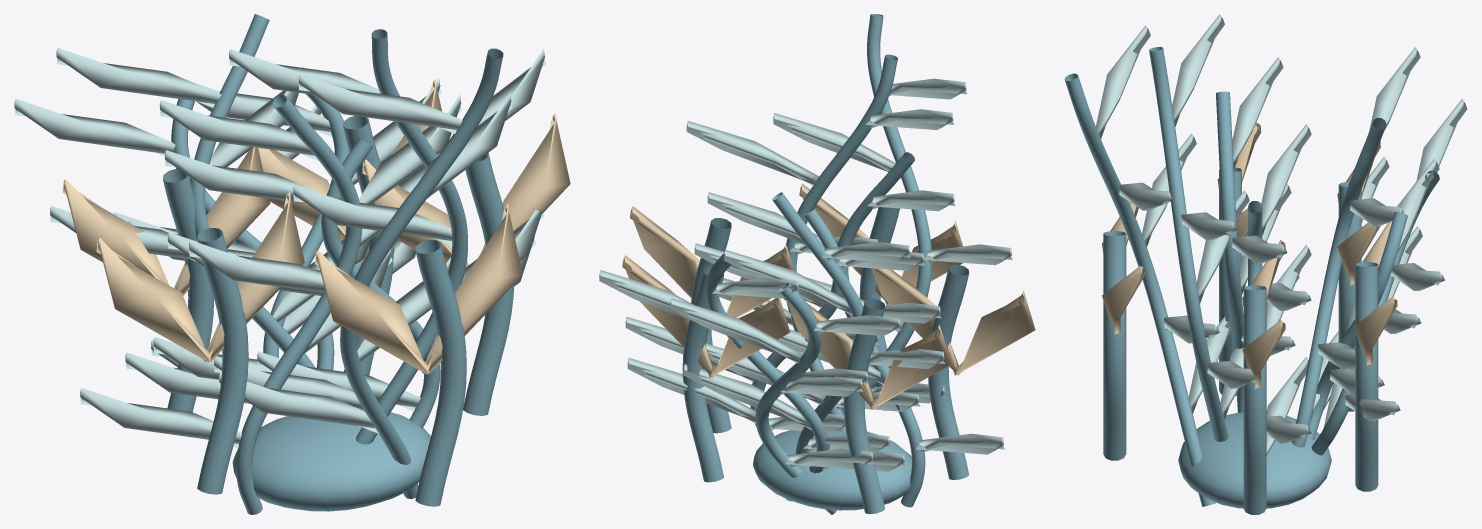
The model's file is bio_aquatic_frond_02_near.glb.
3 renders of one model, left to right at view 1: azimuth 30°, elevation 25°; view 2: azimuth 150°, elevation 25°; view 3: azimuth 270°, elevation 25°, orthographic. The views are drawn at different scales.
Visible parts, largest first — view 1: Holdfast, Ruffled aquatic blade.010, Ruffled aquatic blade.020, Secondary fan lobe.004, Ruffled aquatic blade.025, Ruffled aquatic blade.005, Secondary fan lobe.008, Flexible stipe.002, Branching support.002, Flexible stipe.004, Branching support.004, Secondary fan lobe.002 (+13 smaller); view 2: Ruffled aquatic blade.030, Ruffled aquatic blade.005, Ruffled aquatic blade.020, Ruffled aquatic blade.015, Holdfast, Ruffled aquatic blade.010, Ruffled aquatic blade.025, Secondary fan lobe.008, Secondary fan lobe.002, Secondary fan lobe.006, Branching support.001, Branching support.004 (+13 smaller); view 3: Holdfast, Flexible stipe.002, Flexible stipe.005, Ruffled aquatic blade.010, Ruffled aquatic blade.025, Ruffled aquatic blade, Branching support.002, Branching support, Flexible stipe.001, Branching support.003, Ruffled aquatic blade.030, Ruffled aquatic blade.005 (+13 smaller).
Boxes of the visible parts, left/top/right/bottom form: Holdfast: left=232, top=412, right=430, bottom=511; Ruffled aquatic blade.010: left=189, top=74, right=512, bottom=433; Ruffled aquatic blade.020: left=80, top=94, right=462, bottom=448; Secondary fan lobe.004: left=314, top=204, right=522, bottom=374; Ruffled aquatic blade.025: left=214, top=48, right=545, bottom=410; Ruffled aquatic blade.005: left=50, top=48, right=370, bottom=379; Secondary fan lobe.008: left=96, top=192, right=304, bottom=362; Flexible stipe.002: left=340, top=48, right=503, bottom=499; Branching support.002: left=415, top=240, right=466, bottom=506; Flexible stipe.004: left=236, top=94, right=362, bottom=514; Branching support.004: left=197, top=228, right=248, bottom=494; Secondary fan lobe.002: left=62, top=147, right=270, bottom=295; Ruffled aquatic blade.030: left=627, top=298, right=900, bottom=469; Ruffled aquatic blade.005: left=705, top=242, right=945, bottom=453; Ruffled aquatic blade.020: left=707, top=190, right=1004, bottom=454; Ruffled aquatic blade.015: left=599, top=270, right=905, bottom=471; Holdfast: left=753, top=430, right=911, bottom=510; Ruffled aquatic blade.010: left=773, top=78, right=1012, bottom=403; Ruffled aquatic blade.025: left=665, top=109, right=954, bottom=411; Secondary fan lobe.008: left=871, top=268, right=1035, bottom=375; Secondary fan lobe.002: left=783, top=297, right=951, bottom=409; Secondary fan lobe.006: left=622, top=255, right=790, bottom=378; Branching support.001: left=843, top=298, right=884, bottom=514; Branching support.004: left=928, top=264, right=969, bottom=479; Holdfast: left=1178, top=412, right=1331, bottom=508; Flexible stipe.002: left=1064, top=73, right=1215, bottom=506; Flexible stipe.005: left=1149, top=47, right=1228, bottom=441; Ruffled aquatic blade.010: left=1096, top=25, right=1230, bottom=413; Ruffled aquatic blade.025: left=1172, top=14, right=1261, bottom=419; Ruffled aquatic blade: left=1261, top=124, right=1311, bottom=455; Branching support.002: left=1103, top=231, right=1126, bottom=460; Branching support: left=1243, top=285, right=1266, bottom=514; Flexible stipe.001: left=1291, top=117, right=1386, bottom=447; Branching support.003: left=1355, top=262, right=1378, bottom=491; Ruffled aquatic blade.030: left=1323, top=99, right=1467, bottom=427; Ruffled aquatic blade.005: left=1311, top=47, right=1420, bottom=417.
Size of the model in its own units: 1.85 by 1.89 by 1.57.
